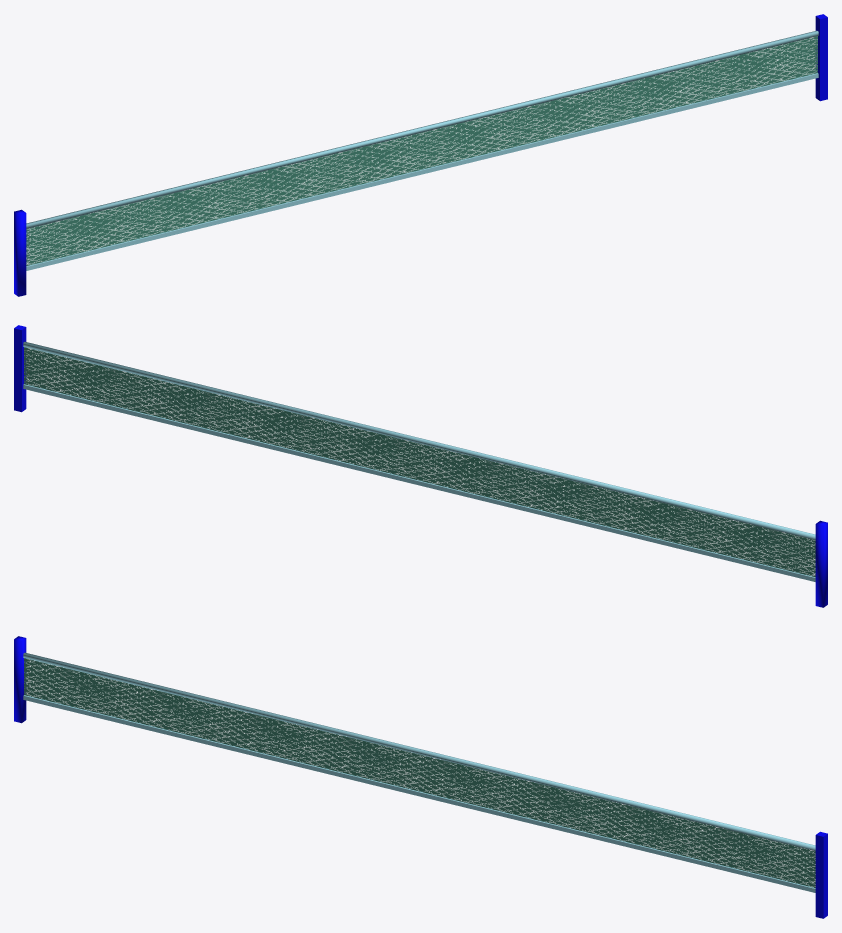
The model's file is gardulet.obj.
3 renders of one model, top to bottom at view 1: azimuth 30°, elevation 25°; view 2: azimuth 150°, elevation 25°; view 3: azimuth 330°, elevation 25°, orthographic.
Parts seen in each view (by area): view 1: Mesh26, Mesh27, Mesh30; view 2: Mesh26, Mesh27, Mesh30; view 3: Mesh26, Mesh27, Mesh30.
Part boxes in pixels (box(x1,y1,x2,y2)): Mesh26: box(26, 36, 817, 265); Mesh27: box(26, 30, 818, 270); Mesh30: box(14, 14, 827, 296); Mesh26: box(24, 347, 815, 577); Mesh27: box(23, 341, 815, 581); Mesh30: box(14, 325, 827, 607); Mesh26: box(24, 658, 815, 887); Mesh27: box(23, 652, 815, 892); Mesh30: box(14, 636, 827, 918).
Bounding box in the file's own units: 31.32 × 3.03 × 0.2975.
Materials: 5 (1 with a texture image).
